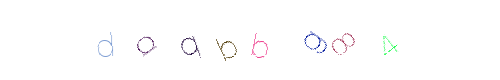4: (348, 0, 428, 80)
8: (276, 0, 356, 80)
A: (160, 0, 240, 80)
B: (197, 0, 277, 80), (210, 0, 290, 80)
D: (148, 0, 228, 80)
G: (245, 0, 325, 80)
Q: (191, 0, 271, 80)
